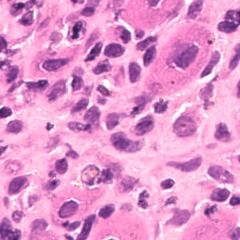New: (145, 20, 212, 90), (118, 1, 185, 31), (83, 211, 152, 240)
